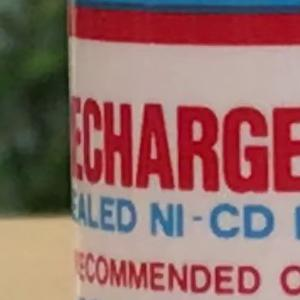NI-CD: (140, 195, 284, 247)
